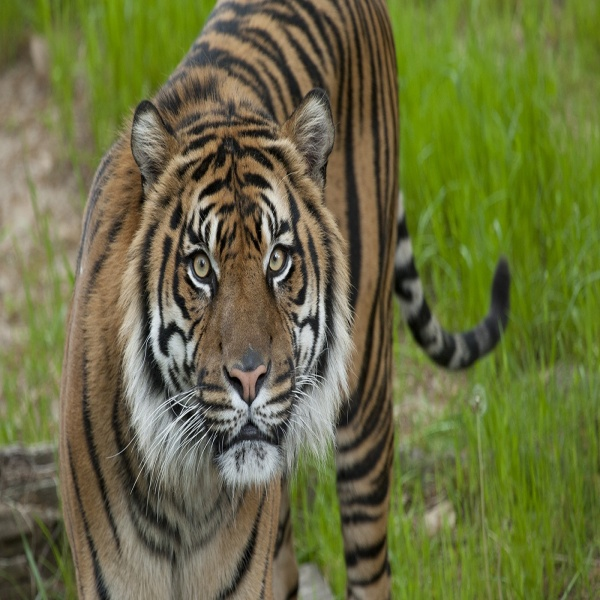Tiger: (54, 5, 518, 599)
